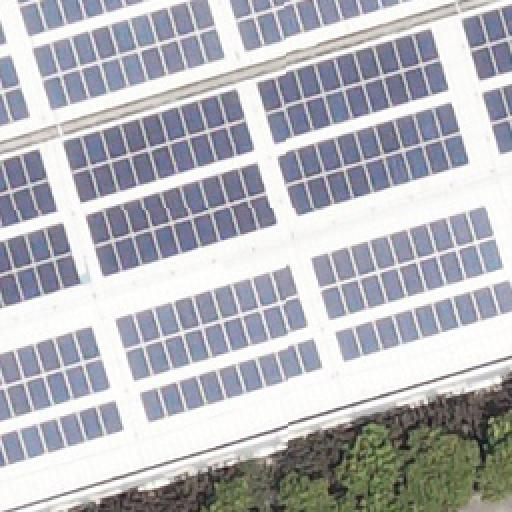solar-panel: (273, 101, 471, 219), (115, 262, 309, 382), (308, 204, 504, 320), (64, 89, 256, 207), (83, 160, 277, 276), (255, 28, 449, 144), (32, 0, 228, 112), (140, 336, 324, 424), (336, 277, 512, 363), (0, 321, 112, 423), (229, 0, 411, 52), (0, 400, 128, 468), (1, 219, 87, 309), (15, 0, 153, 40), (1, 145, 63, 231), (460, 2, 512, 82), (0, 52, 32, 128), (480, 83, 512, 157), (0, 15, 8, 49)
